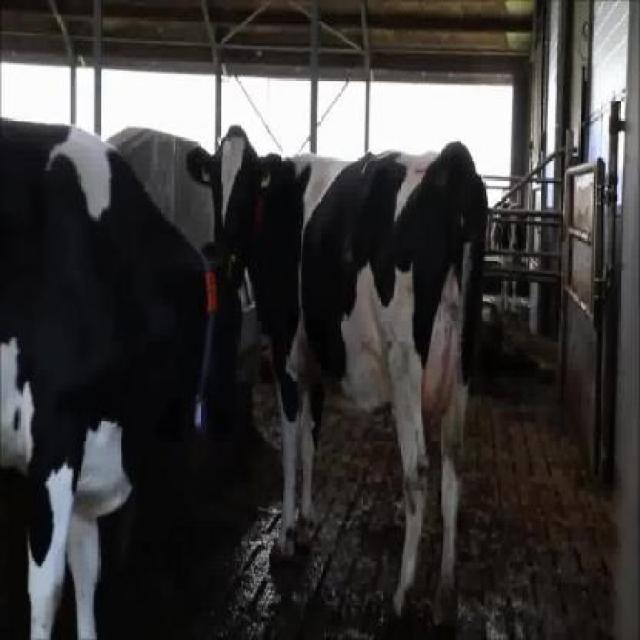Cow: (186, 123, 488, 631), (2, 114, 249, 638)
